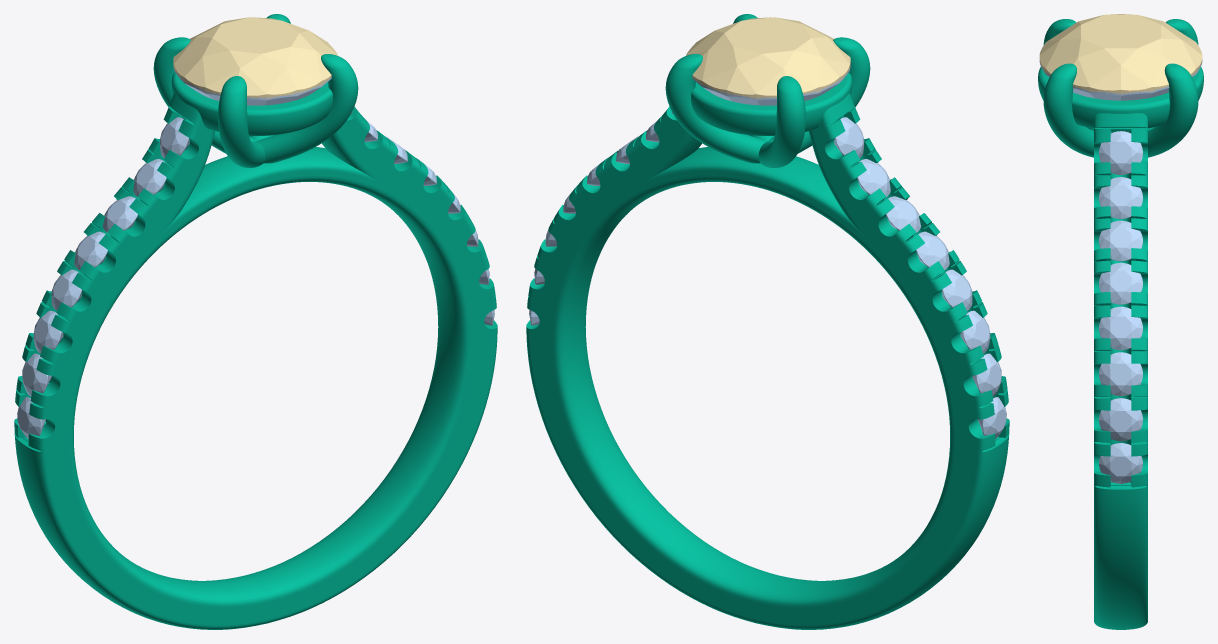
3 renders of one model, left to right at view 1: azimuth 30°, elevation 25°; view 2: azimuth 150°, elevation 25°; view 3: azimuth 270°, elevation 25°, orthographic.
Visible parts, largest first — view 1: JTC 11860(front).3dm, Diamond_Round (×2), Gem On Curve Advanced Gem (×7); view 2: JTC 11860(front).3dm, Diamond_Round (×2), Gem On Curve Advanced Gem (×8); view 3: JTC 11860(front).3dm, Gem On Curve Advanced Gem (×8), Diamond_Round (×2).
Boxes of the visible parts, box(x1,y1,x2,y2) form: JTC 11860(front).3dm: box(14, 14, 497, 629); Diamond_Round (×2): box(173, 17, 337, 105); Gem On Curve Advanced Gem (×7): box(22, 117, 189, 396); JTC 11860(front).3dm: box(526, 14, 1009, 629); Diamond_Round (×2): box(686, 17, 850, 105); Gem On Curve Advanced Gem (×8): box(834, 117, 1006, 438); JTC 11860(front).3dm: box(1038, 19, 1203, 629); Gem On Curve Advanced Gem (×8): box(1099, 131, 1142, 483); Diamond_Round (×2): box(1039, 14, 1202, 100).
Bounding box in the file's own units: 2.52 × 3.01 × 0.7898.
